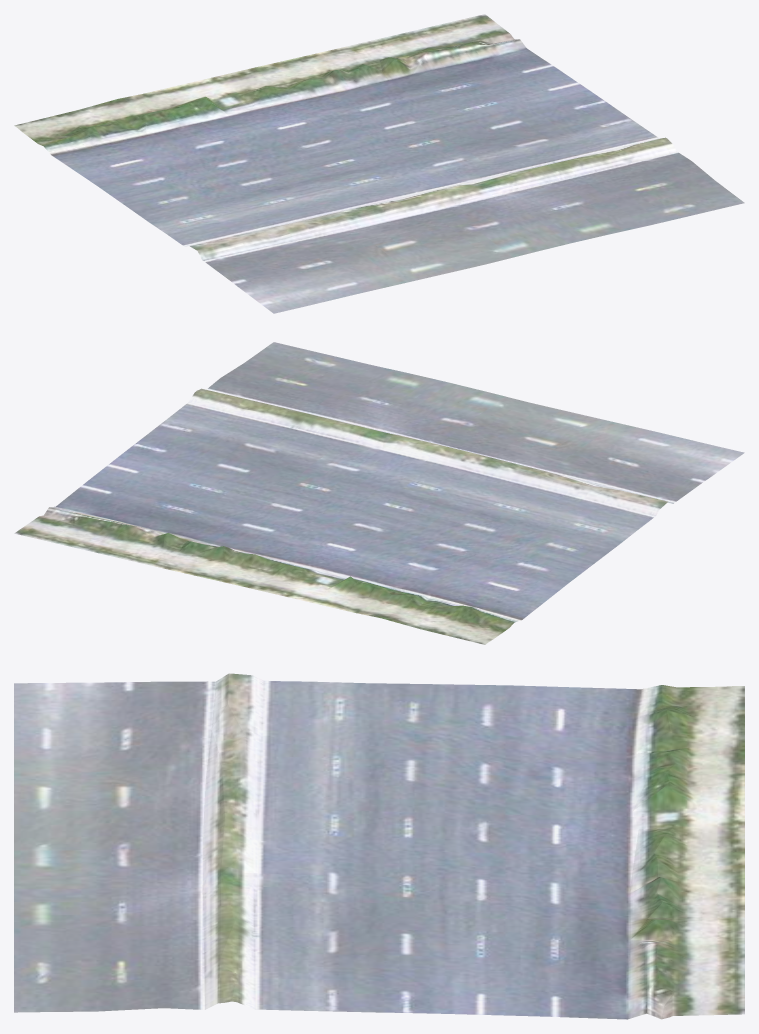
Rendered from Tile_+003_+008_L20_000310.glb.
The picture shows the model from 3 angles, top to bottom: view 1: azimuth 30°, elevation 25°; view 2: azimuth 150°, elevation 25°; view 3: azimuth 270°, elevation 25°; orthographic projection. The views are drawn at different scales.
Parts seen in each view (by area): view 1: rtc; view 2: rtc; view 3: rtc.
Boxes of the visible parts, x1,y1,x2,y2 form: rtc: [14, 14, 744, 313]; rtc: [14, 342, 744, 644]; rtc: [14, 673, 744, 1019].
Size of the model in its own units: 25.25 by 0.8275 by 24.13.
1 material, 1 textured.
